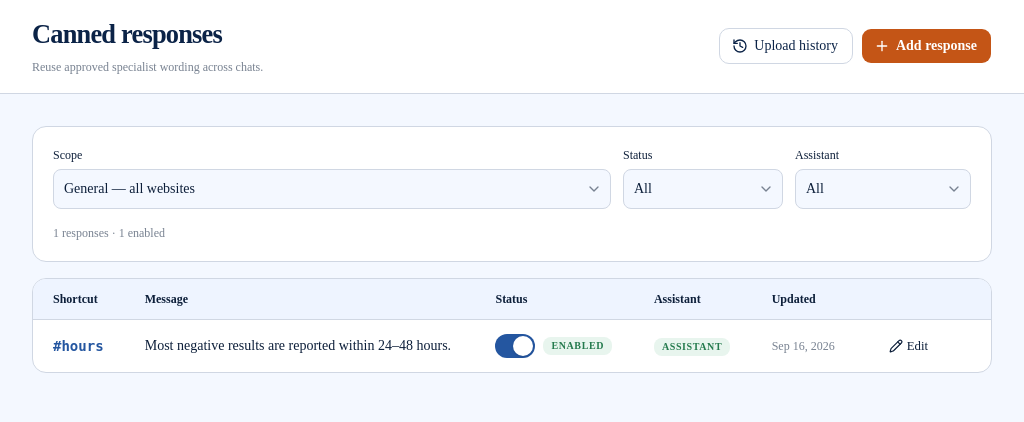
Test: canned responses console scope › shows only the selected website records and restores a disabled response after enable
What coordinates should you click on to do the following:
click the dropdown named "Scope"
I would click on:
 (130, 188)
Its box is [53,169,611,209].
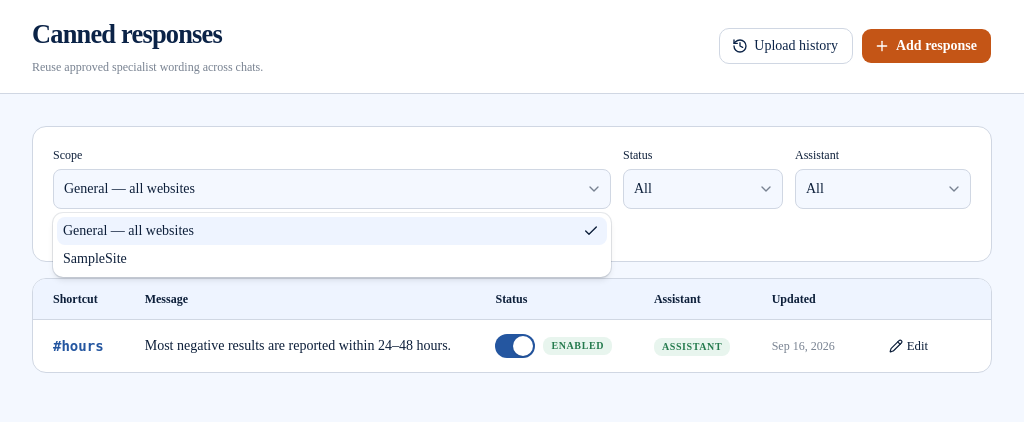
What coordinates should you click on to do the following:
click the option "SampleSite"
I would click on:
 (95, 258)
Its box is [63,251,127,266].
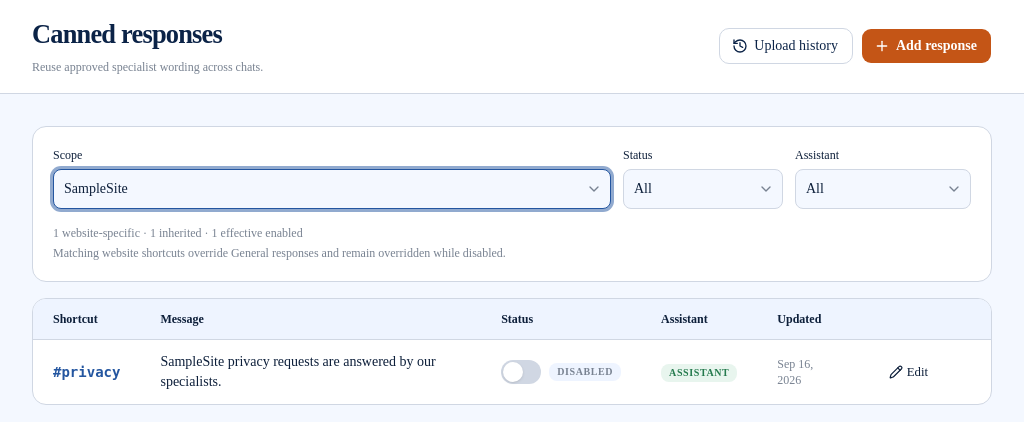
Expected: the text "#hours" is gone
Expected: the text "#privacy" is shown, [53,364,120,380]
Expected: the text "Disabled" is shown, [549,363,621,381]
What coordinates should you click on to do the following:
click the switch named "Enable #privacy"
I would click on:
 (521, 372)
Its box is [501,360,541,384].
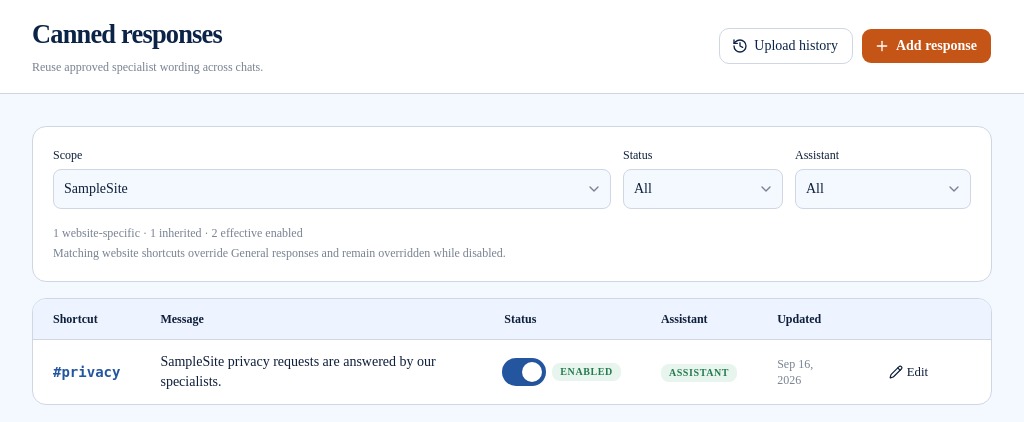
Expected: the text "Enabled" is shown, [552,363,621,381]
